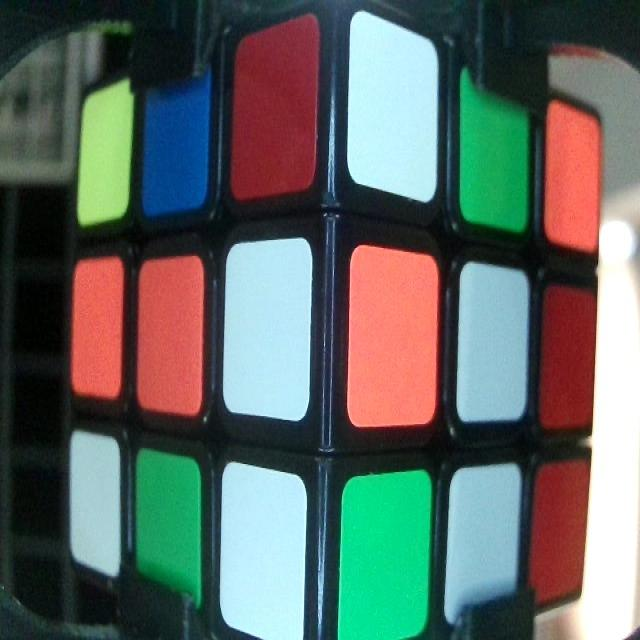b: (145, 63, 210, 218)
g: (343, 480, 426, 640), (136, 452, 201, 620), (462, 67, 525, 224)
o: (354, 245, 434, 424), (142, 261, 202, 412), (549, 101, 599, 244), (76, 261, 119, 391)
r: (240, 36, 314, 187), (546, 283, 591, 429), (536, 466, 582, 598)
w: (347, 7, 432, 189), (228, 244, 308, 423), (225, 473, 301, 636), (450, 470, 522, 622), (461, 259, 526, 421), (69, 436, 122, 573)
y: (81, 89, 130, 227)
